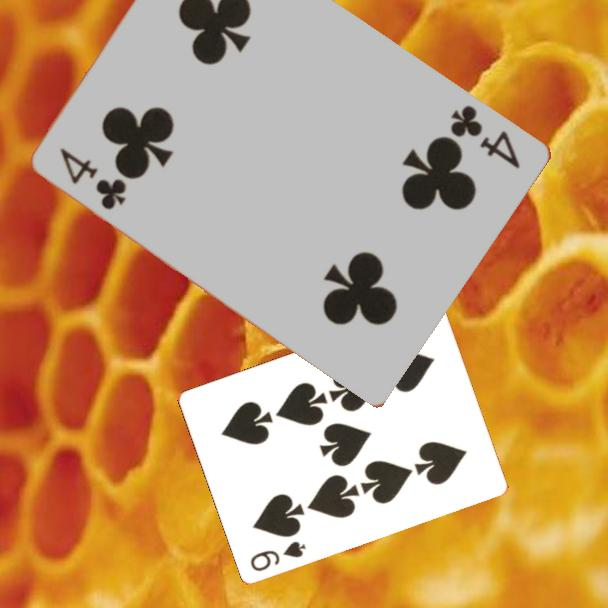c04: (447, 101, 524, 172), (57, 143, 130, 213)
s09: (247, 537, 309, 574)
